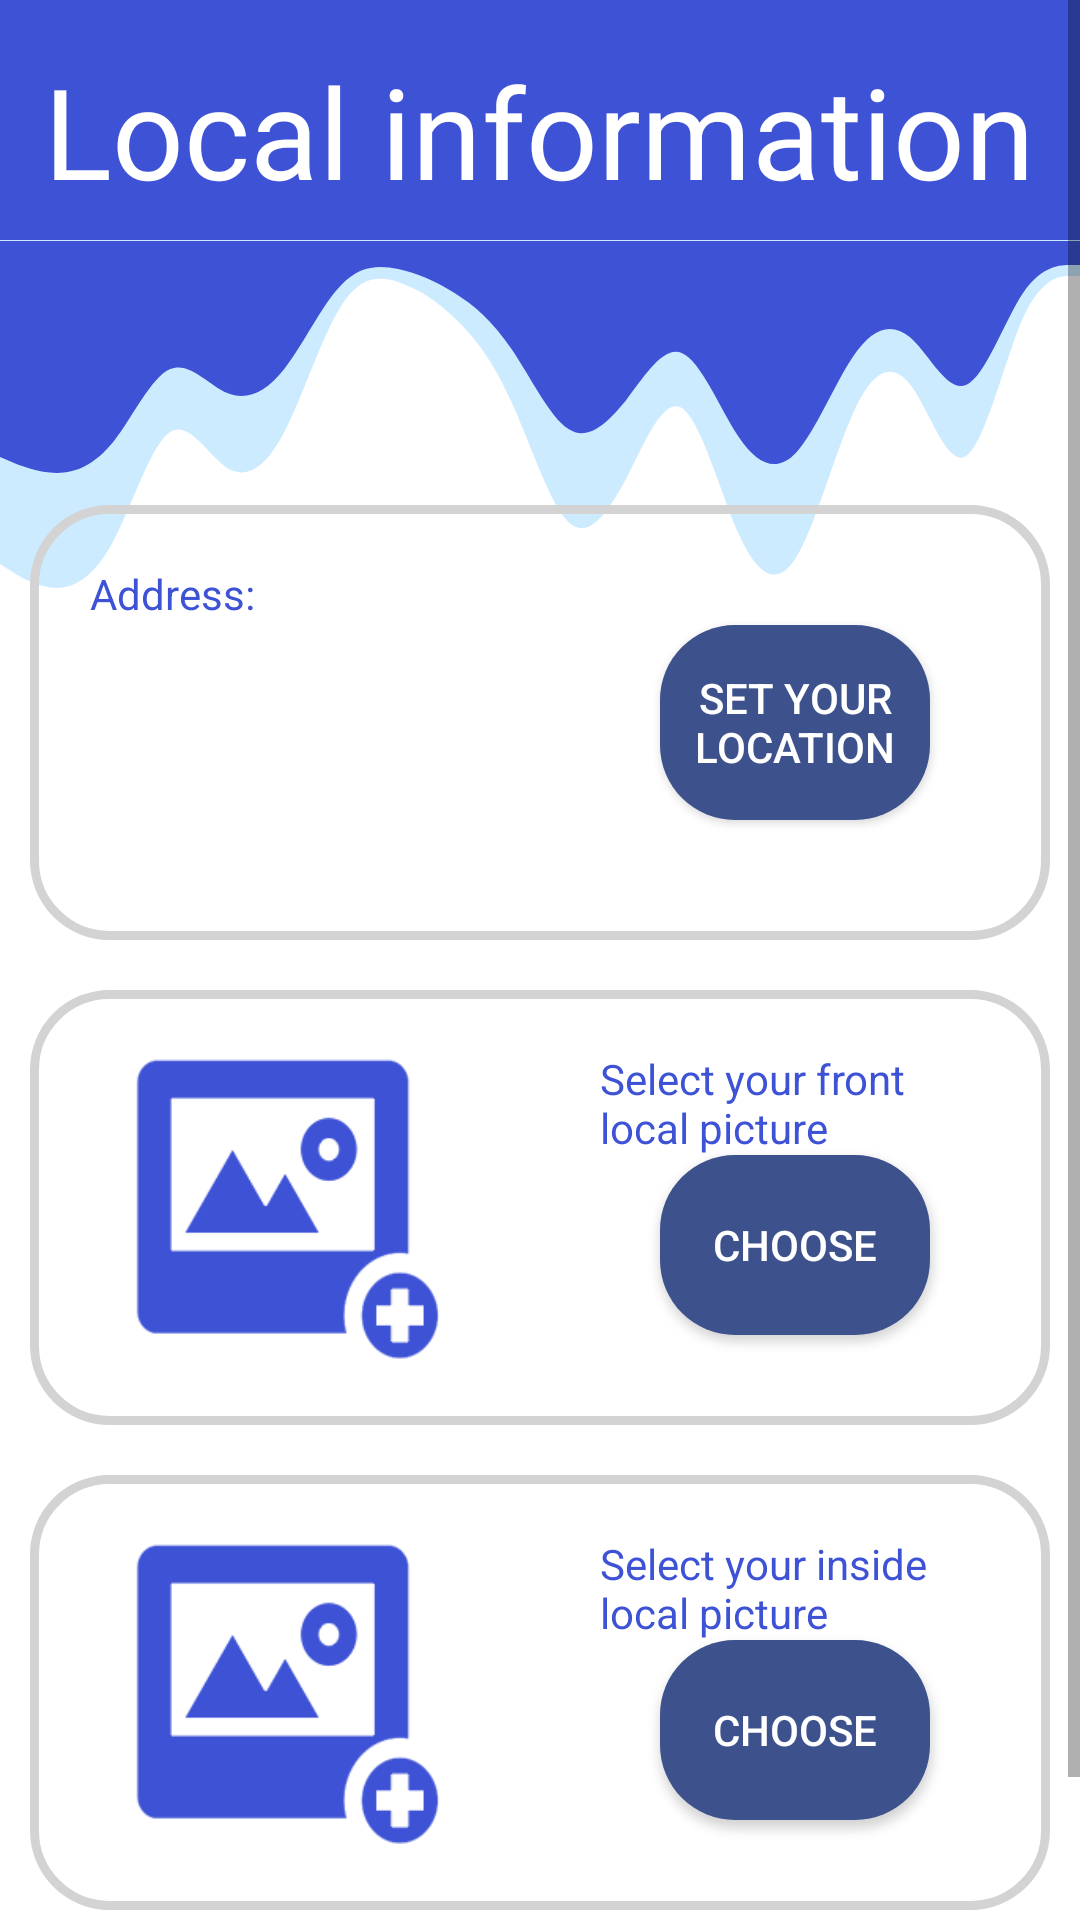

Screen size 1080px×1920px. Icon name, then its box in pixels as detection(x1, y1, x2, y2):
addpic: detection(136, 1059, 439, 1359), detection(136, 1544, 439, 1844)
